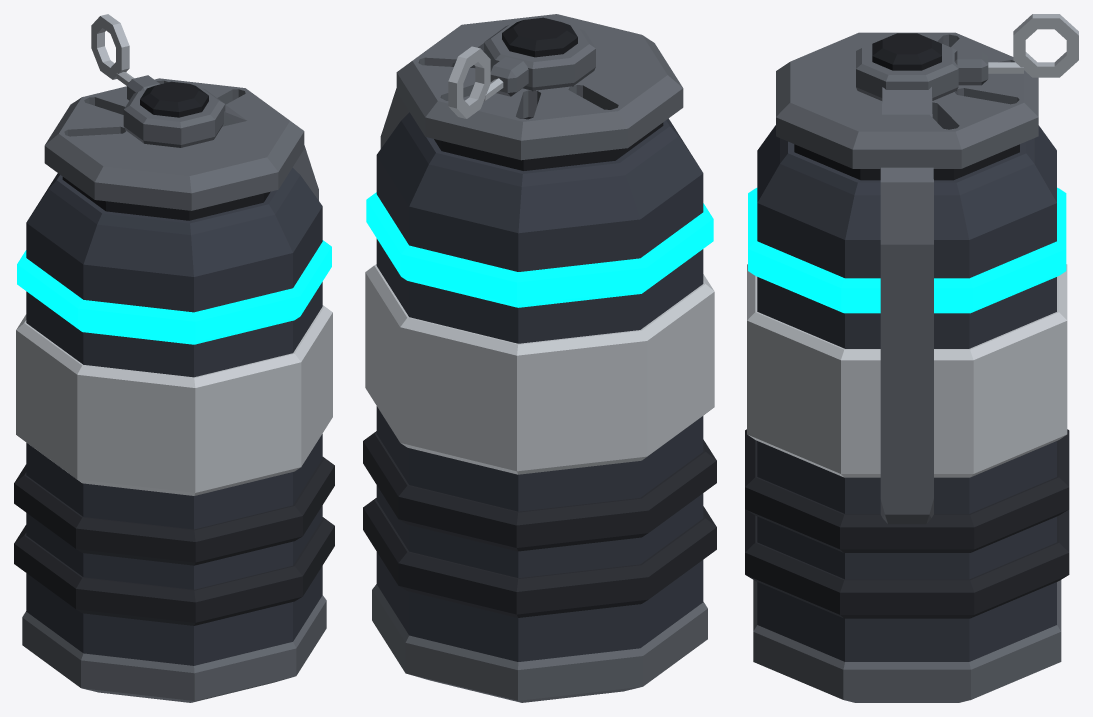
Rendered from Smoke.fbx.
3 renders of one model, left to right at view 1: azimuth 30°, elevation 25°; view 2: azimuth 150°, elevation 25°; view 3: azimuth 270°, elevation 25°, orthographic. The views are drawn at different scales.
Visible parts, largest first — view 1: Body, Label, Cap, Grip0, Grip1, Foot, Band_Energy, Fuse, Striker, VentPlate, Pin, Lever; view 2: Body, Label, Cap, Grip1, Grip0, Foot, Band_Energy, Fuse, Pin, Striker, VentPlate, PinLug (+1 smaller); view 3: Body, Label, Cap, Lever, Grip0, Grip1, Foot, Band_Energy, Fuse, Pin, Striker, VentPlate (+1 smaller).
Boxes of the visible parts, x1=… form: Body: x1=26, y1=167, x2=322, y2=665; Label: x1=16, y1=305, x2=332, y2=495; Cap: x1=44, y1=78, x2=304, y2=210; Grip0: x1=14, y1=517, x2=334, y2=625; Grip1: x1=14, y1=457, x2=334, y2=565; Foot: x1=22, y1=595, x2=326, y2=702; Band_Energy: x1=17, y1=240, x2=331, y2=344; Fuse: x1=123, y1=87, x2=225, y2=147; Striker: x1=140, y1=81, x2=208, y2=117; VentPlate: x1=62, y1=177, x2=270, y2=220; Pin: x1=91, y1=14, x2=134, y2=85; Lever: x1=222, y1=104, x2=318, y2=200; Body: x1=376, y1=112, x2=703, y2=661; Label: x1=365, y1=264, x2=714, y2=474; Cap: x1=396, y1=14, x2=683, y2=160; Grip1: x1=363, y1=431, x2=716, y2=551; Grip0: x1=363, y1=498, x2=716, y2=617; Foot: x1=372, y1=584, x2=707, y2=702; Band_Energy: x1=366, y1=192, x2=713, y2=307; Fuse: x1=484, y1=24, x2=595, y2=91; Pin: x1=448, y1=46, x2=503, y2=118; Striker: x1=502, y1=17, x2=577, y2=57; VentPlate: x1=434, y1=117, x2=663, y2=170; PinLug: x1=490, y1=57, x2=528, y2=96; Body: x1=757, y1=125, x2=1056, y2=661; Label: x1=747, y1=264, x2=1067, y2=477; Cap: x1=776, y1=32, x2=1038, y2=168; Lever: x1=880, y1=87, x2=933, y2=524; Grip0: x1=745, y1=509, x2=1069, y2=618; Grip1: x1=745, y1=429, x2=1069, y2=552; Foot: x1=753, y1=580, x2=1061, y2=702; Band_Energy: x1=748, y1=187, x2=1066, y2=313; Fuse: x1=856, y1=37, x2=958, y2=100; Pin: x1=988, y1=14, x2=1078, y2=77; Striker: x1=872, y1=33, x2=941, y2=70; VentPlate: x1=794, y1=144, x2=1019, y2=180.
Bounding box in the file's own units: 0.295 × 0.6296 × 0.3005.
